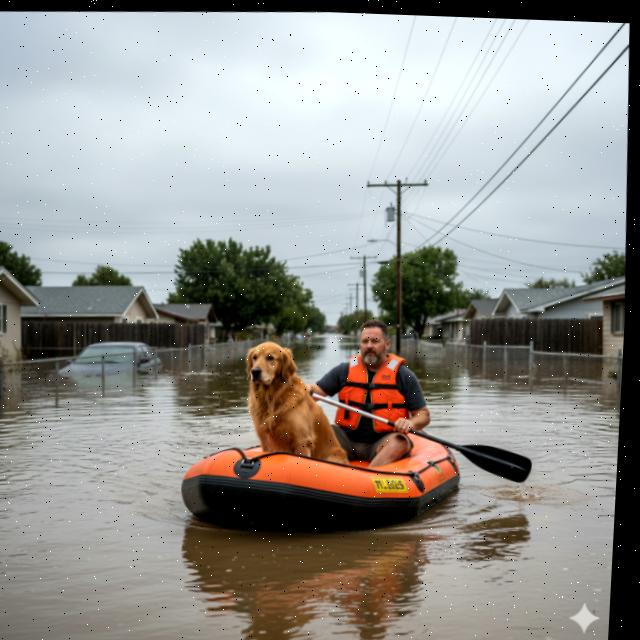civilian: (312, 308, 437, 484)
dog: (232, 331, 361, 480)
